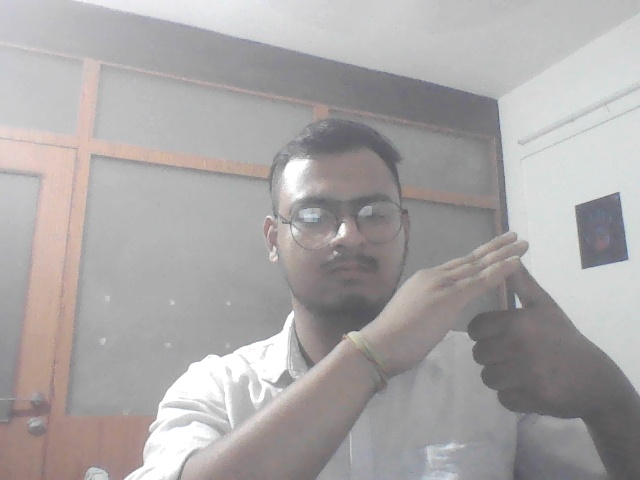I Feel You: (392, 222, 591, 430)
